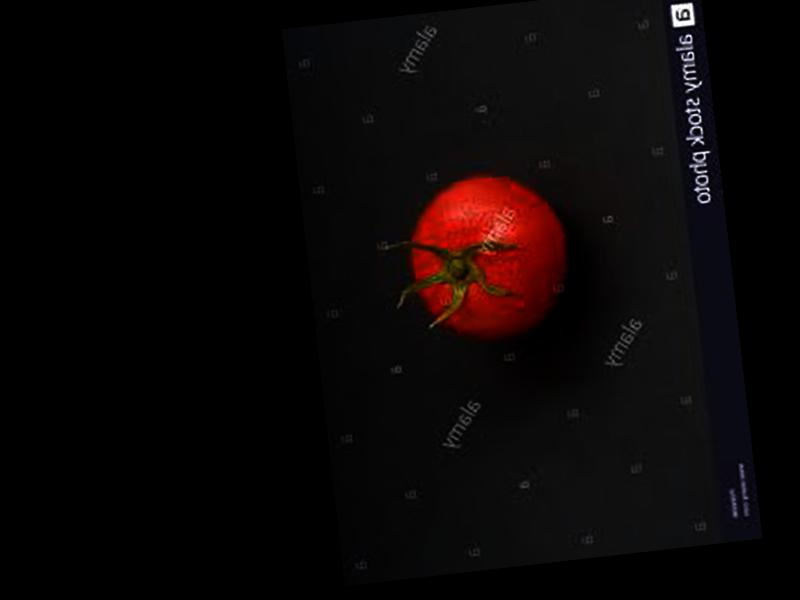Tomato: (400, 166, 571, 349)
